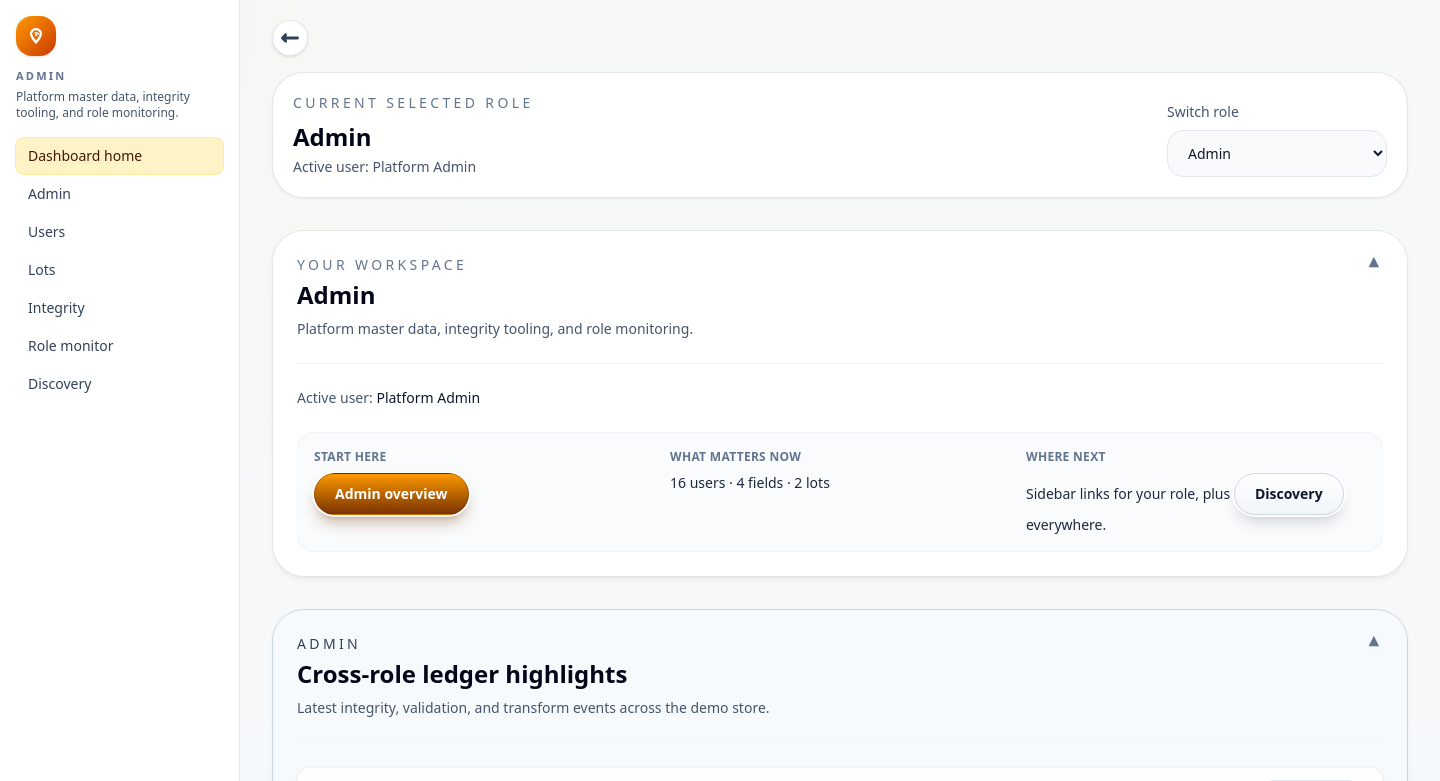
it: HomeDashboard role switching › renders the current role and updates the selected user when the role changes
The width and height of the screenshot is (1440, 781).
Expected: the text "Current selected role" is shown once, [293,93,534,113]
Expected: the text "Active user: Platform Admin" is shown, [293,157,476,176]
Select "farmer" in the dropdown labelled "Switch role" at (1277, 154), box [1167,130,1387,177]
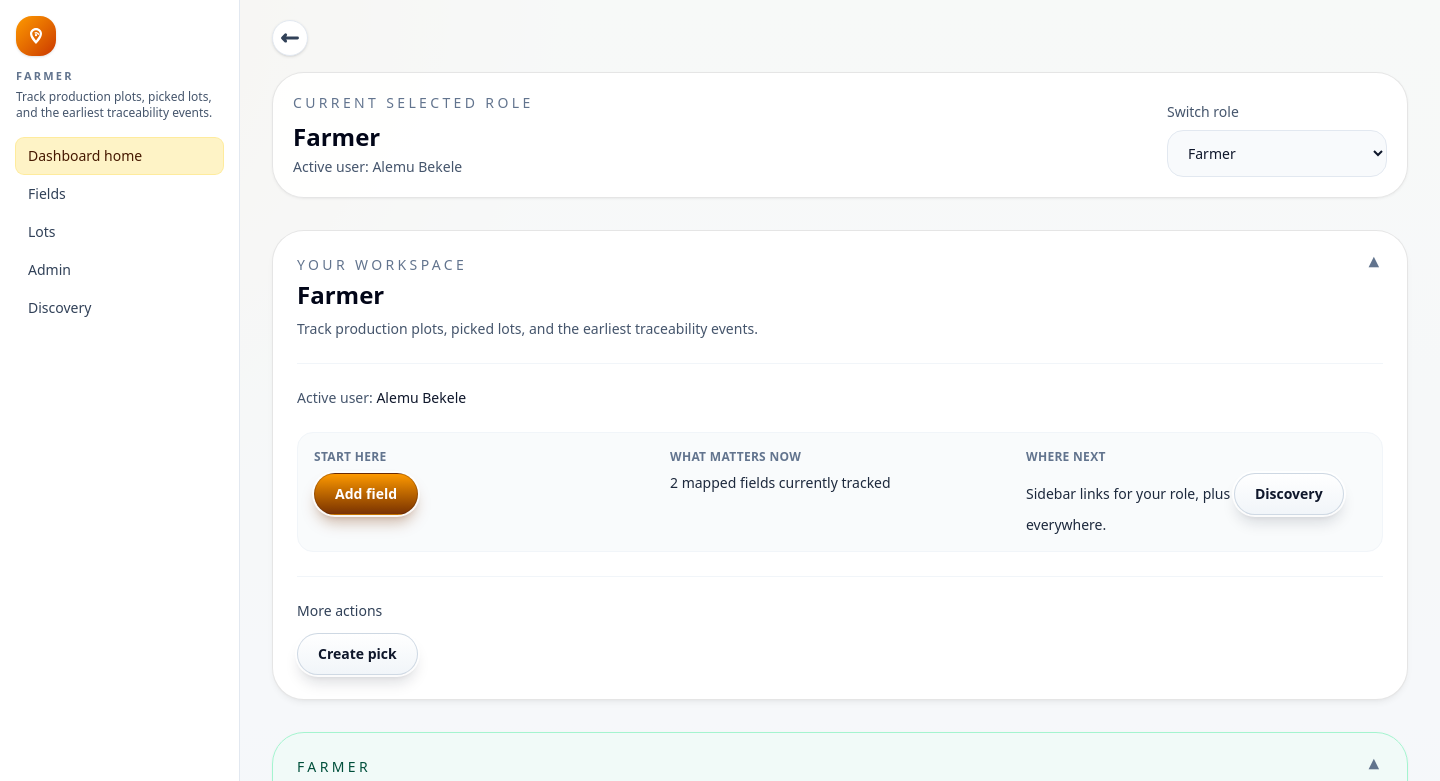
Expected: the text "Active user: Alemu Bekele" is shown, [293,157,462,176]
Expected: the link "Add field" is shown, [314,473,418,515]
Expected: the link "Create pick" is shown, [297,633,418,675]
